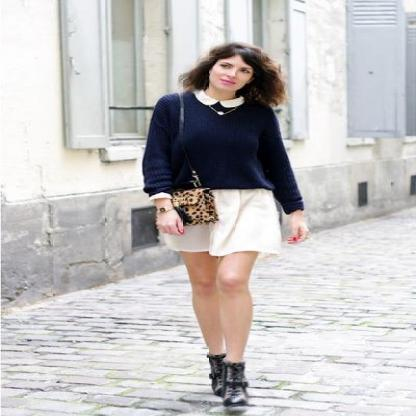bag: (174, 188, 236, 234)
jacket: (143, 90, 302, 222)
shoe: (207, 354, 246, 406)
skirt: (157, 188, 281, 256)
